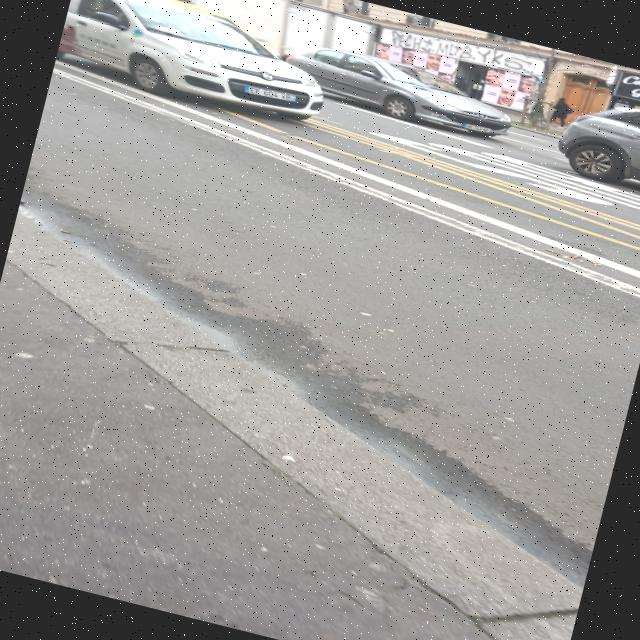Autre: (233, 76, 311, 108), (458, 119, 510, 140)
